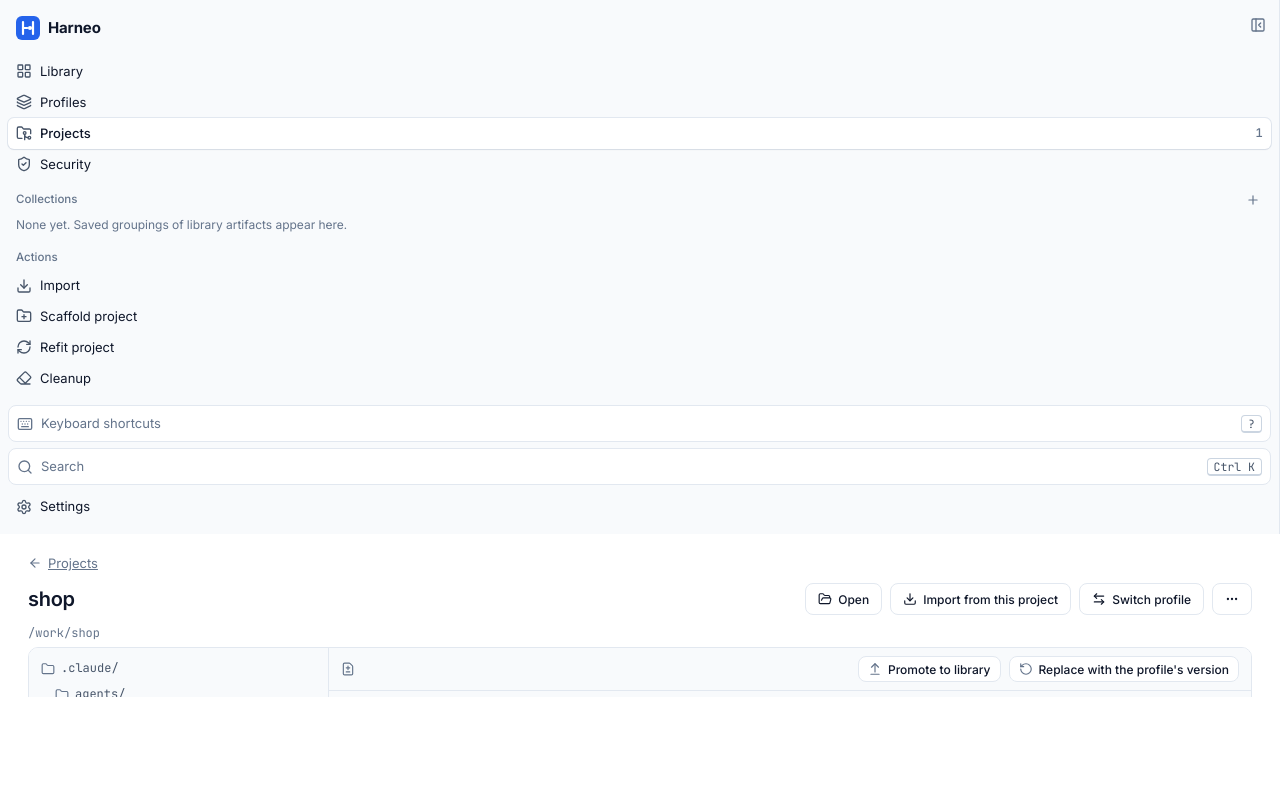
Test case: Drift tab › confirms a single re-apply with the diff before writing
(page scrolled)
Click the button "Replace with the profile's version". click: click(1124, 670)
box: [1008,656,1239,682]
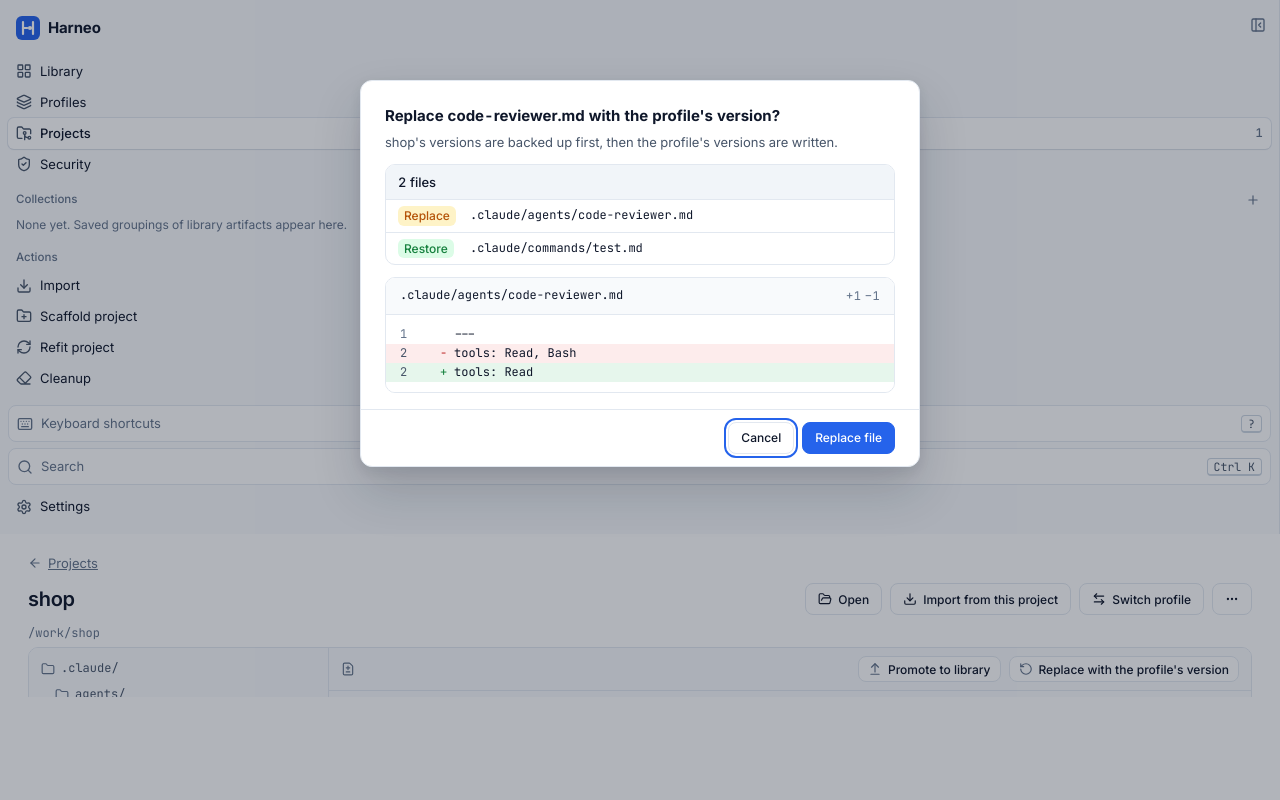
Check: the text "tools: Read" is shown, box [454,363,533,382]
Click the button "Replace file". click: click(849, 438)
box: [802,422,895,454]
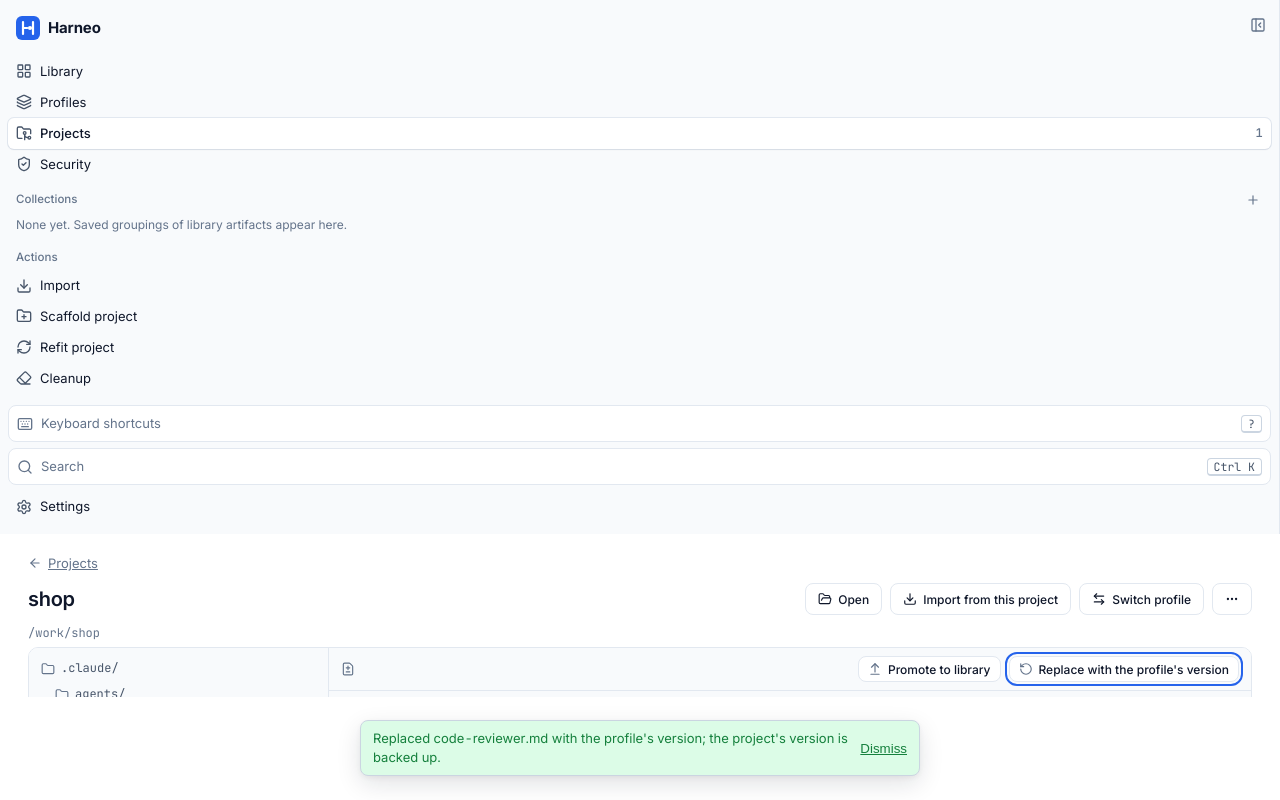
Check: the text "Replaced code-reviewer.md with the profile's version; the project's version is backed up." is shown, box [373,730,848,765]
